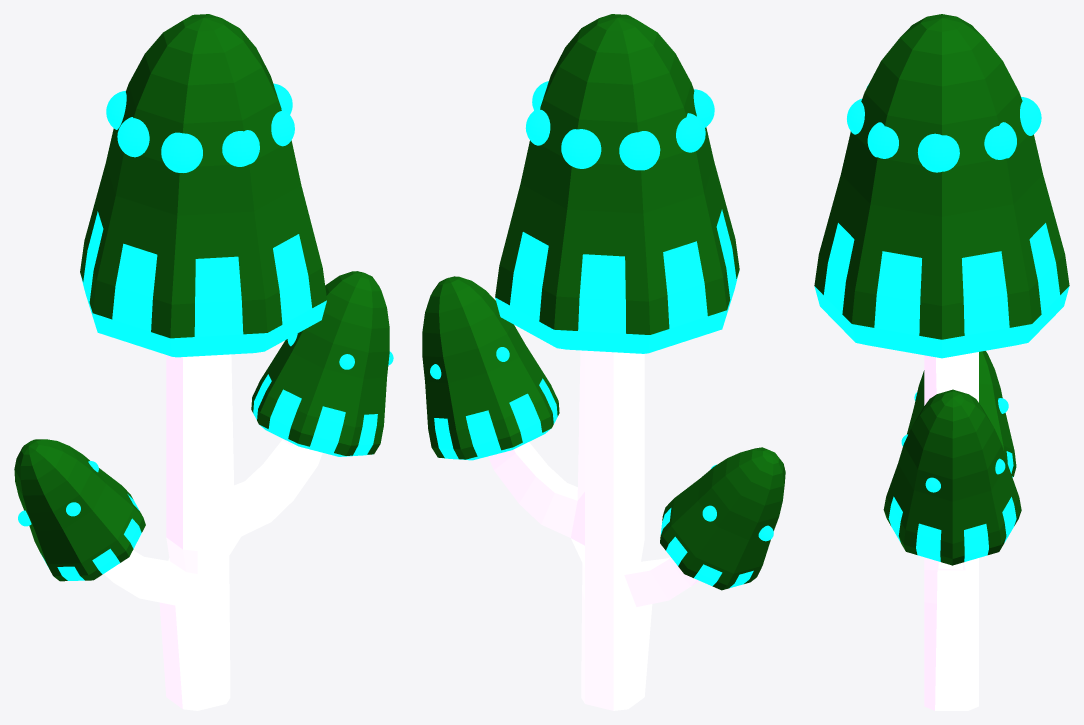
The model's file is Mushrooms_3.fbx.
3 renders of one model, left to right at view 1: azimuth 30°, elevation 25°; view 2: azimuth 150°, elevation 25°; view 3: azimuth 270°, elevation 25°, orthographic.
Visible parts, largest first — view 1: Mushroom 3; view 2: Mushroom 3; view 3: Mushroom 3.
Part boxes in pixels (left/top/right/bottom): Mushroom 3: left=14, top=14, right=393, bottom=710; Mushroom 3: left=422, top=14, right=785, bottom=710; Mushroom 3: left=814, top=14, right=1069, bottom=710.
Bounding box in the file's own units: 162 × 291 × 98.85.
